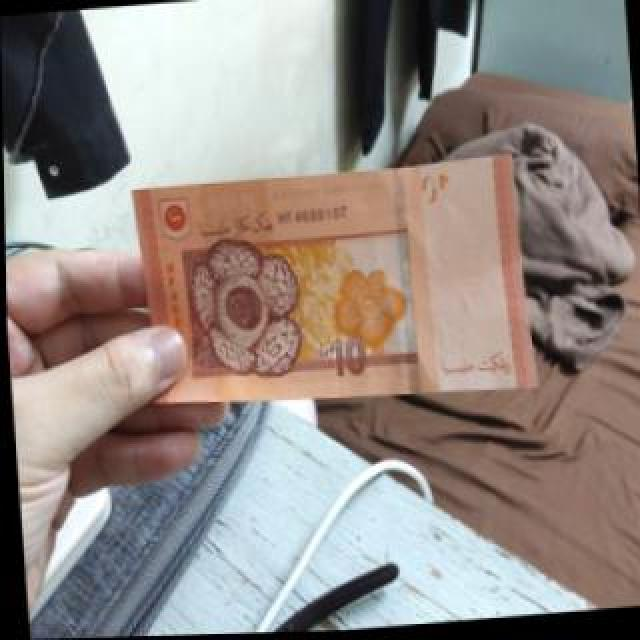10 Ringgit: (120, 154, 545, 430)
